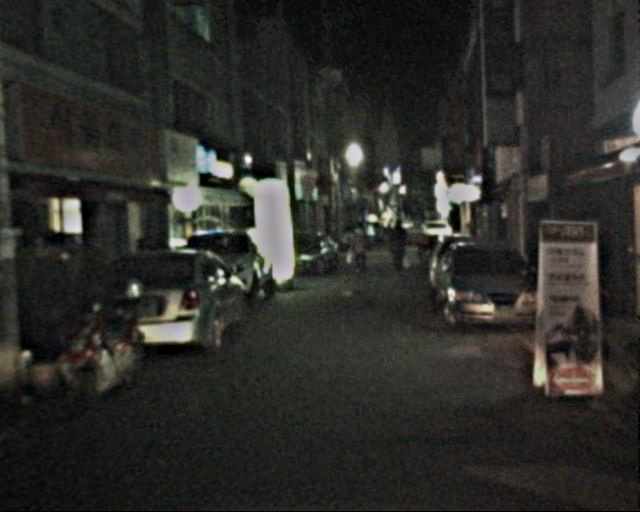person: (389, 220, 413, 279), (352, 222, 376, 280)
